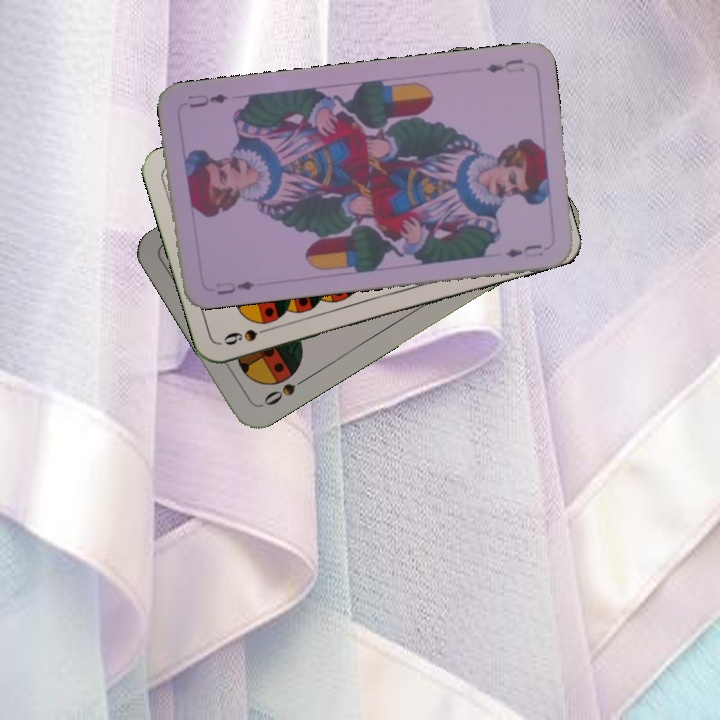EU: (212, 276, 257, 298), (482, 55, 526, 76)
S9: (219, 322, 277, 348)
SO: (259, 373, 310, 409)
